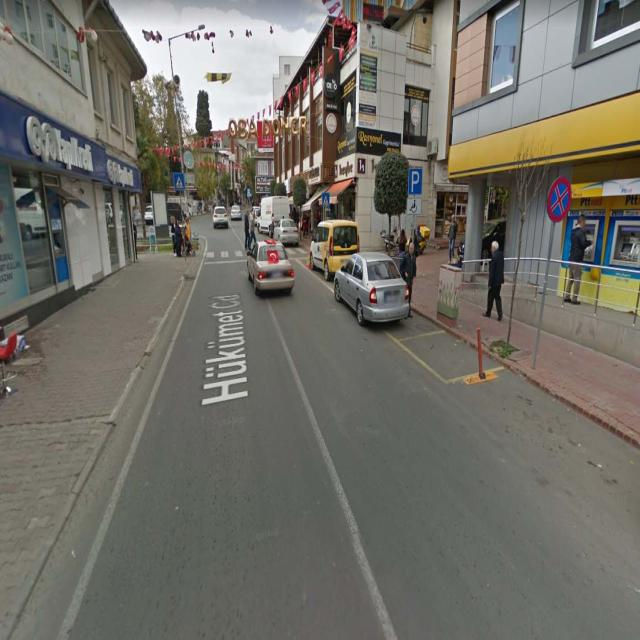park: (408, 167, 422, 194)
